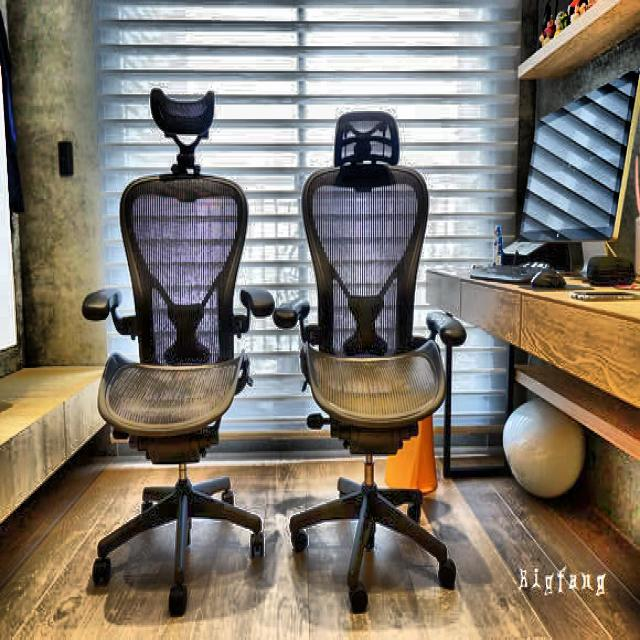cadeira: (270, 103, 473, 618), (83, 82, 273, 618)
